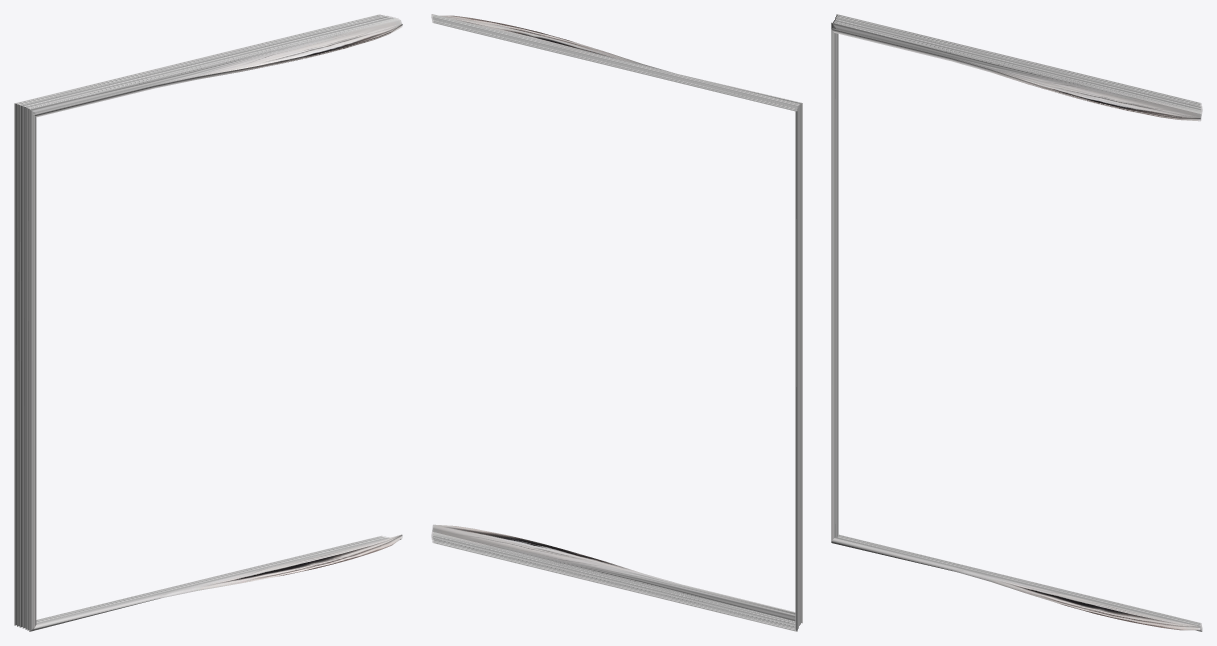
File: MeshBook_11_0_GeomSubset_1.obj
3 renders of one model, left to right at view 1: azimuth 30°, elevation 25°; view 2: azimuth 150°, elevation 25°; view 3: azimuth 330°, elevation 25°, orthographic.
Parts seen in each view (by area): view 1: MeshBook_11_0_GeomSubset_1; view 2: MeshBook_11_0_GeomSubset_1; view 3: MeshBook_11_0_GeomSubset_1.
Part boxes in pixels (x1=…): MeshBook_11_0_GeomSubset_1: x1=14, y1=14, x2=402, y2=631; MeshBook_11_0_GeomSubset_1: x1=431, y1=14, x2=802, y2=631; MeshBook_11_0_GeomSubset_1: x1=831, y1=14, x2=1202, y2=631.
Bounding box in the file's own units: 0.1749 × 0.2317 × 0.017.
